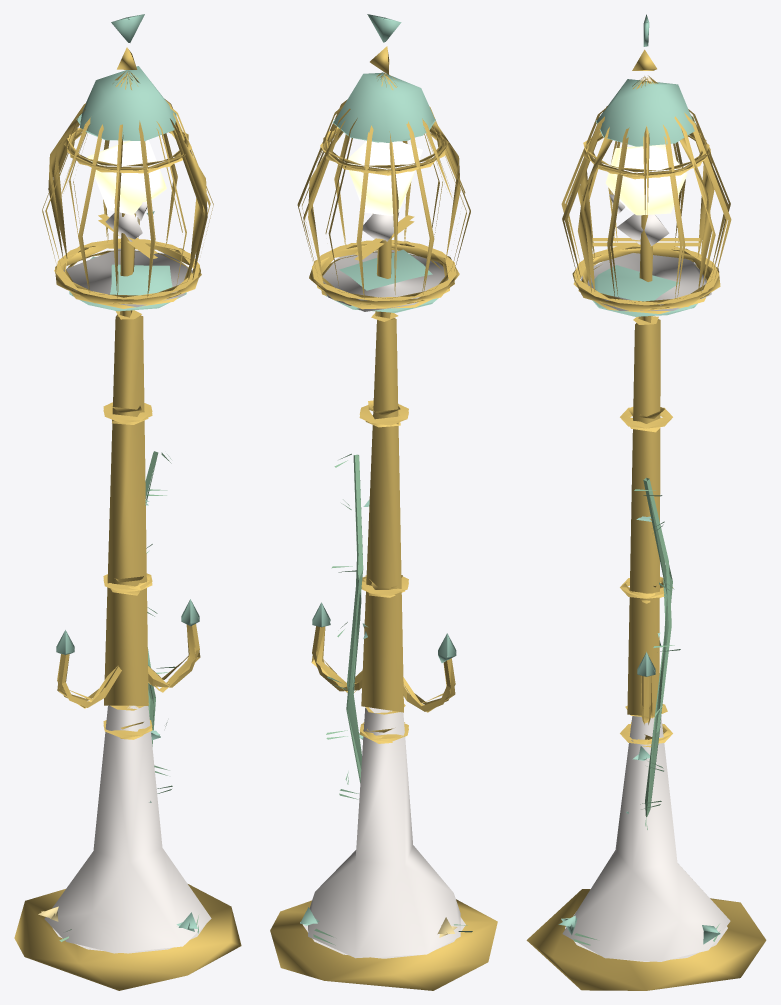
Rendered from lod_birdcage_lamp.glb.
3 views of the same model, side by side, from view 1: azimuth 30°, elevation 25°; view 2: azimuth 150°, elevation 25°; view 3: azimuth 270°, elevation 25° (orthographic).
Visible parts, largest first — view 1: birdcage_lamp; view 2: birdcage_lamp; view 3: birdcage_lamp.
Boxes of the visible parts, x1=… form: birdcage_lamp: x1=14, y1=14, x2=241, y2=990; birdcage_lamp: x1=270, y1=14, x2=497, y2=990; birdcage_lamp: x1=526, y1=14, x2=766, y2=990.
Bounding box in the file's own units: 0.8942 × 3.82 × 0.8942.
